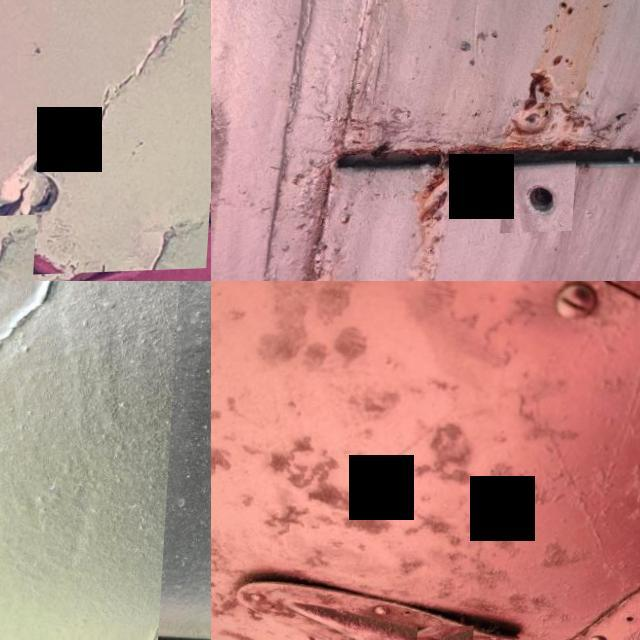Crack: (0, 0, 211, 278), (164, 281, 211, 640), (0, 216, 41, 281)
Missing_Fastener: (506, 162, 580, 236)
